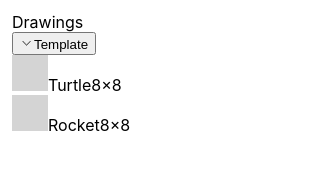
Test: DrawingsPanel — name-prefix grouping › clicking the group header collapses the group rows
Expected: the button "Turtle" is shown, [48, 75, 91, 95]
What coordinates should you click on to do the following:
click the button "Template"
I would click on:
 (54, 44)
Its box is [12, 32, 96, 55].
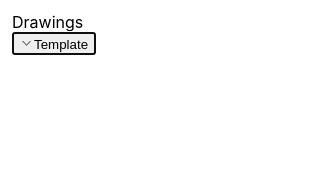
Result: the button "Turtle" is gone
Result: the button "Rocket" is gone
